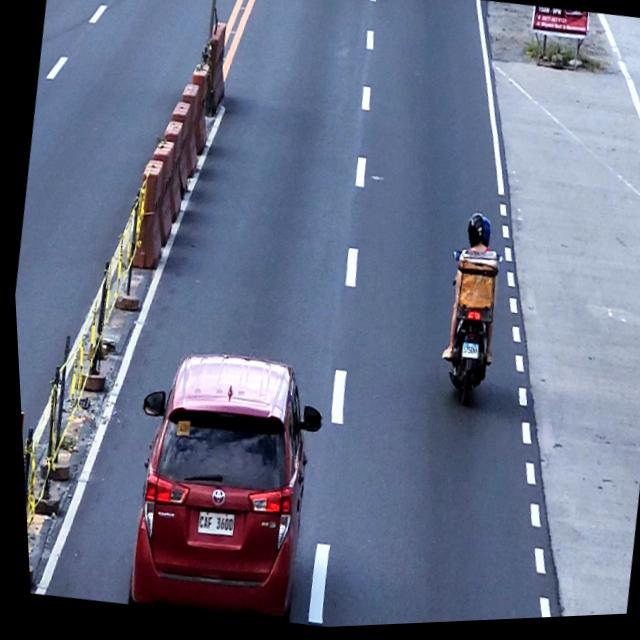Car: (105, 339, 334, 631)
License-Plate: (189, 508, 232, 541), (456, 345, 477, 365)
Motorcycle: (426, 249, 505, 414)
